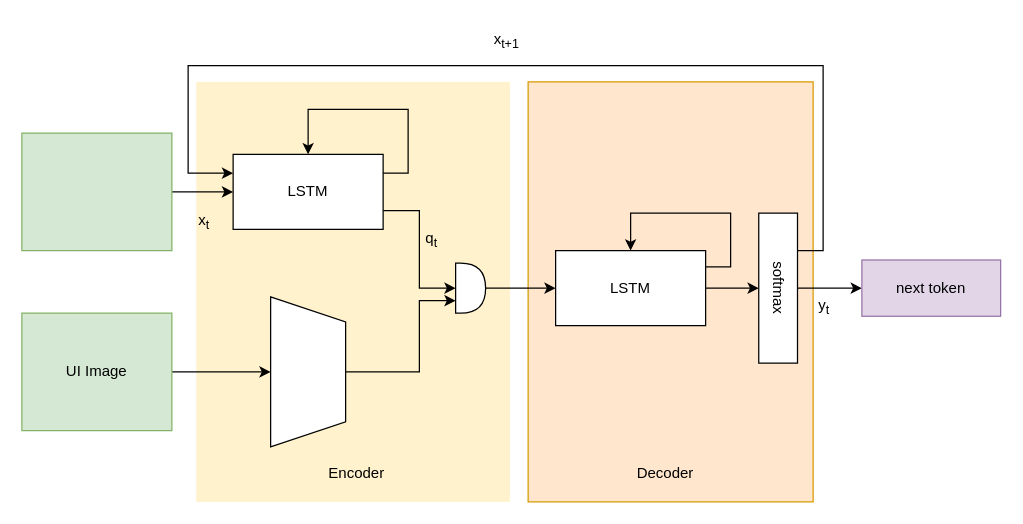
Some shapes in this 1023 by 524 pixel diagram are drawn without their labels. Here are the shapes that lost their labels. From the top down, the centre of each, then its label:
At point (96, 191): "Context".
At point (307, 371): "CNN".
